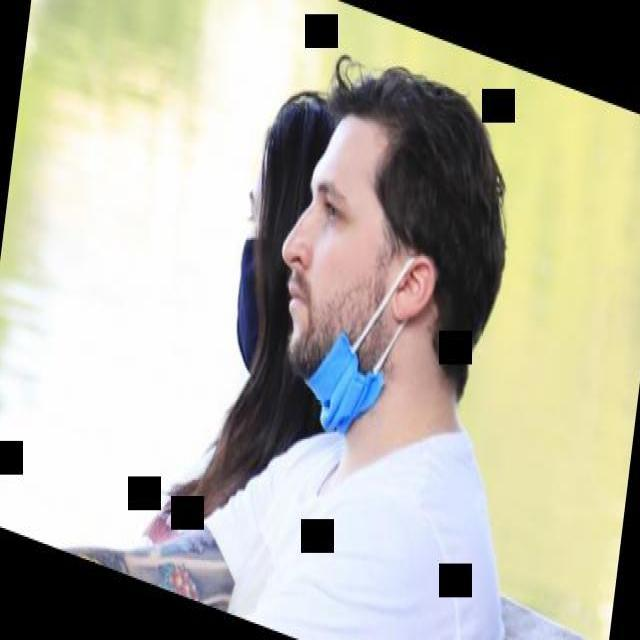hairnet: (280, 229, 382, 436)
